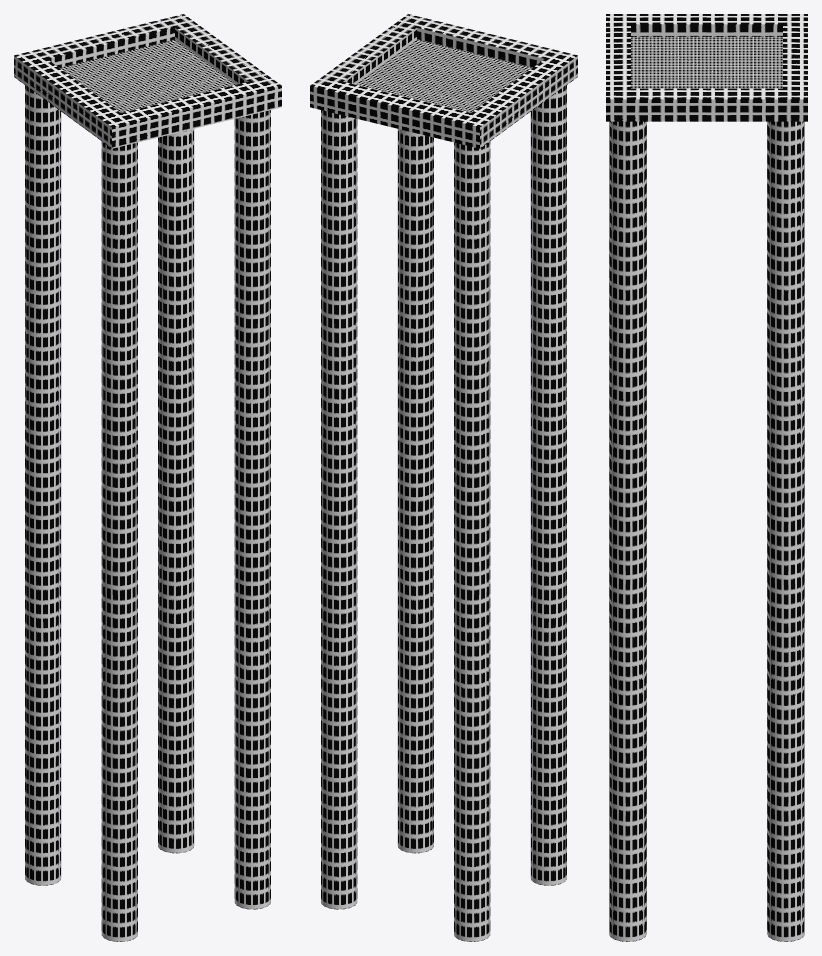
File: piattaforma.fbx
The picture shows the model from 3 angles, left to right: view 1: azimuth 30°, elevation 25°; view 2: azimuth 150°, elevation 25°; view 3: azimuth 270°, elevation 25°; orthographic projection. The views are drawn at different scales.
Parts seen in each view (by area): view 1: Cylinder; view 2: Cylinder; view 3: Cylinder.
Part boxes in pixels (x1=…): Cylinder: x1=14, y1=14, x2=281, y2=941; Cylinder: x1=310, y1=14, x2=577, y2=941; Cylinder: x1=606, y1=14, x2=807, y2=941.
Bounding box in the file's own units: 255 × 1178 × 255.
